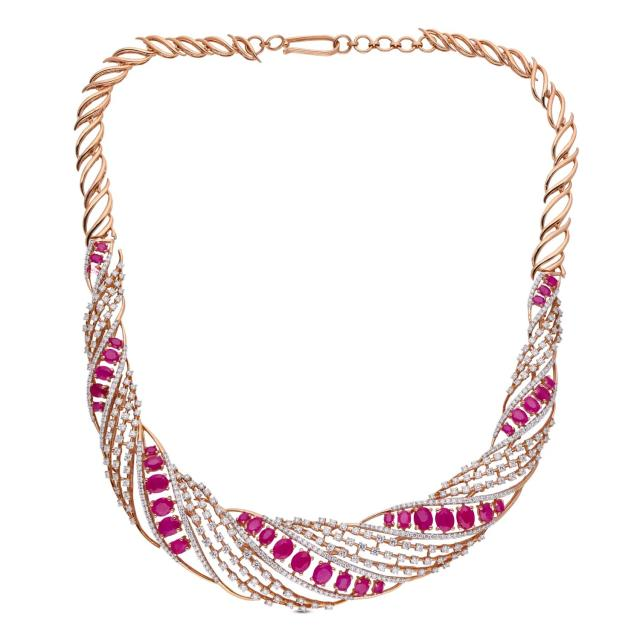missing gem: (182, 553, 196, 563), (87, 265, 101, 273)
